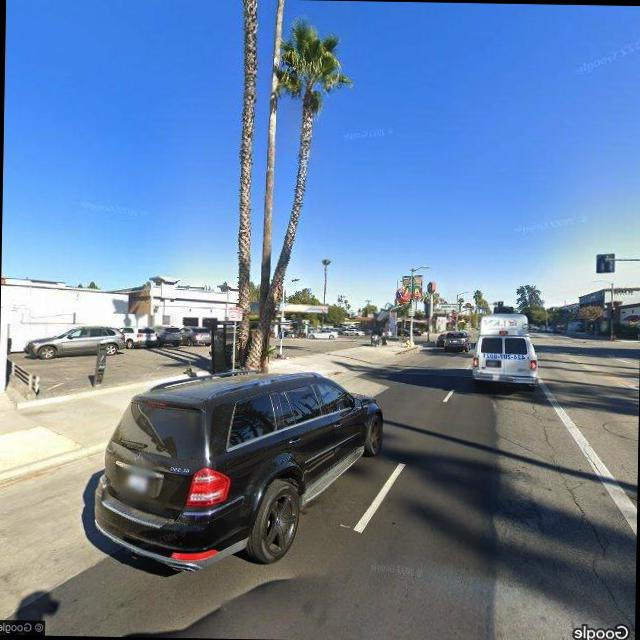pothole: (528, 402, 638, 632)
